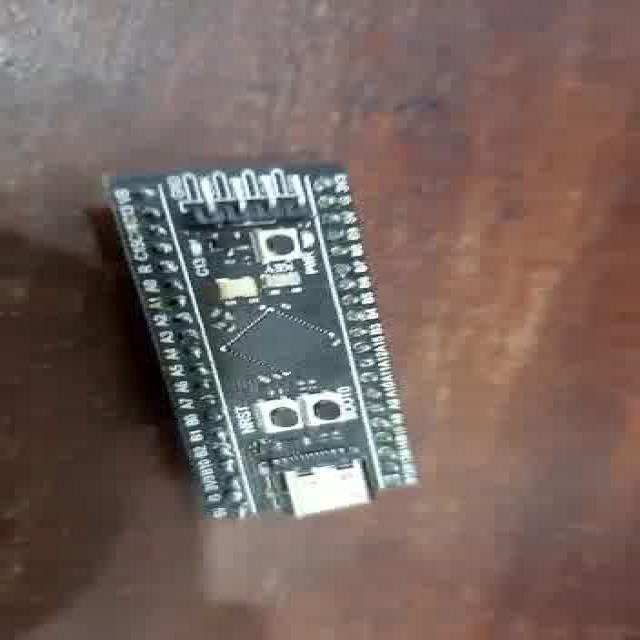stm32: (101, 175, 430, 514)
